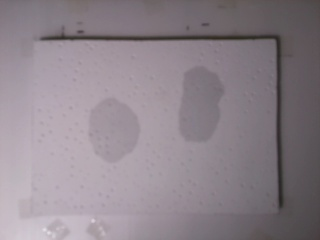Water_detected: (93, 103, 136, 163), (180, 77, 219, 139)
